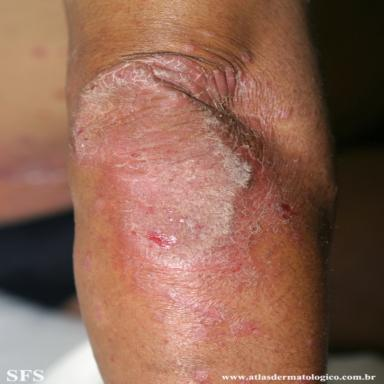Psoriasis: (69, 54, 302, 347), (192, 370, 210, 384)
